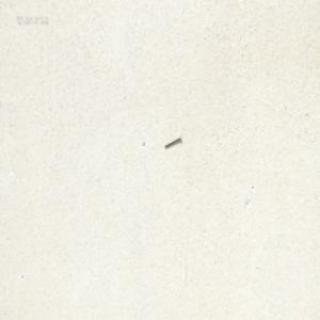Bolttrack_idkeyframe: (163, 134, 180, 148)
